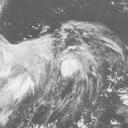cyclone: (60, 46, 91, 78)
